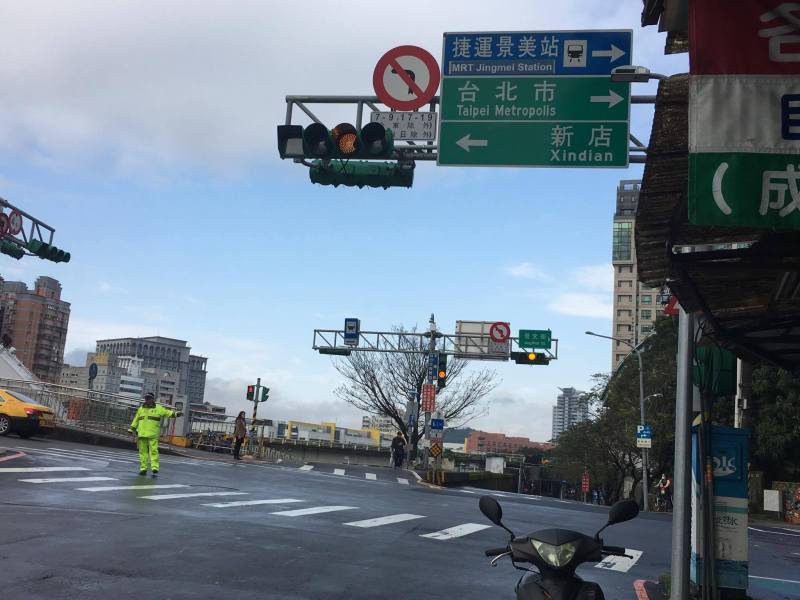No_left_turn: (372, 45, 439, 109), (489, 322, 510, 342)
